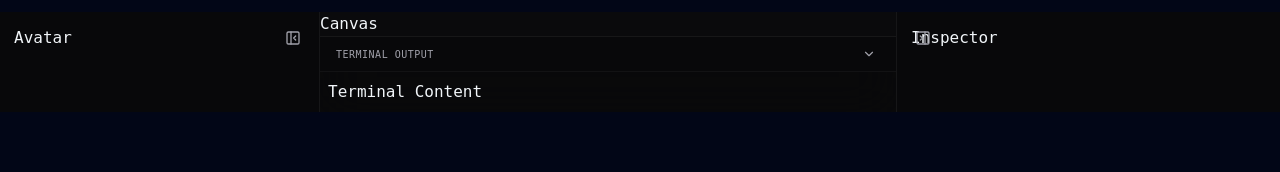
SplitScreenLayout Component › should toggle terminal drawer content visibility
The width and height of the screenshot is (1280, 172).
Expected: the element with test id "terminal-drawer-content" is shown, x1=328 y1=82 x2=482 y2=101
What coordinates should you click on to do the following:
click the button with test id "toggle-terminal-drawer-btn"
I would click on:
 (869, 54)
Its box is x1=858 y1=43 x2=880 y2=65.
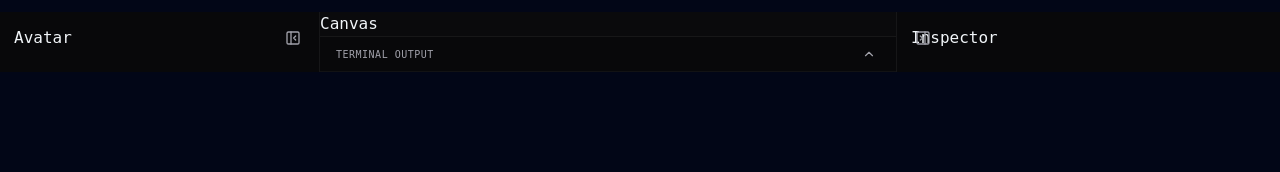
Expected: the element with test id "terminal-drawer-content" is gone
